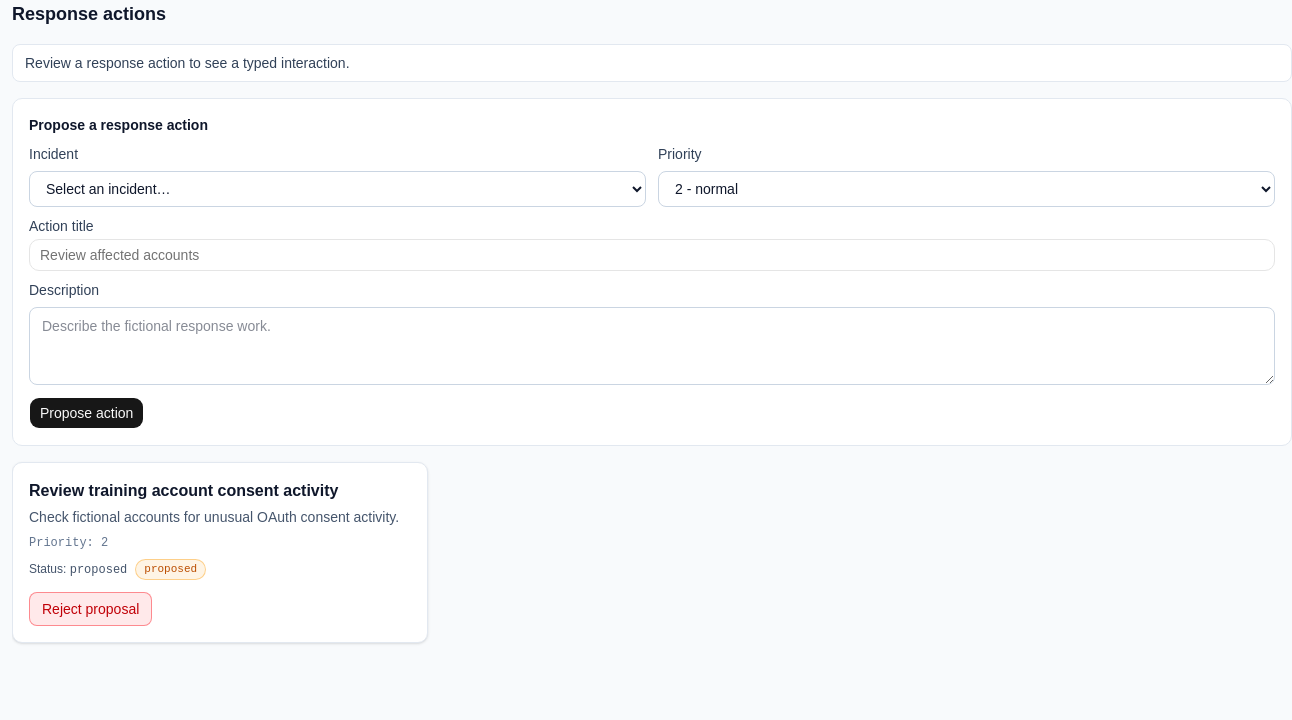
Test case: response-action rejection › updates the displayed action status after a successful rejection
Step 1. Click the button "Reject proposal" → (91, 609), box [29,592,152,626]
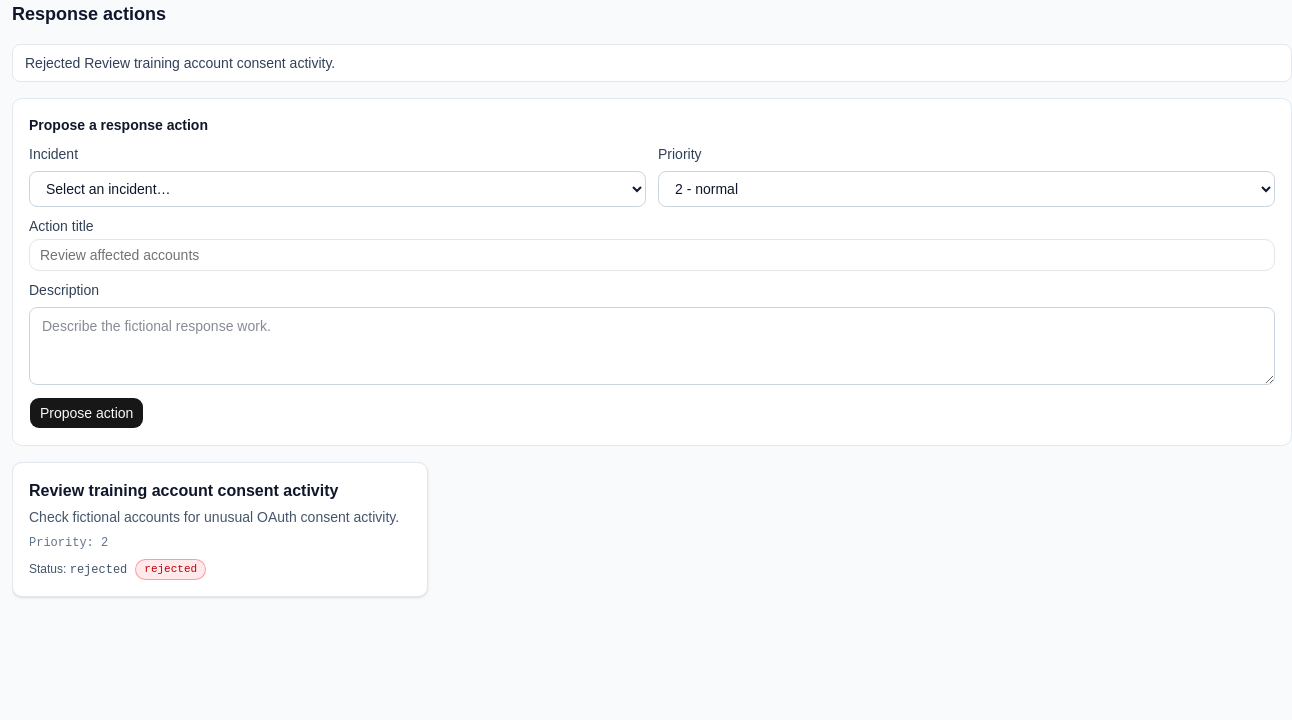
Expected: the button "Reject proposal" is gone
